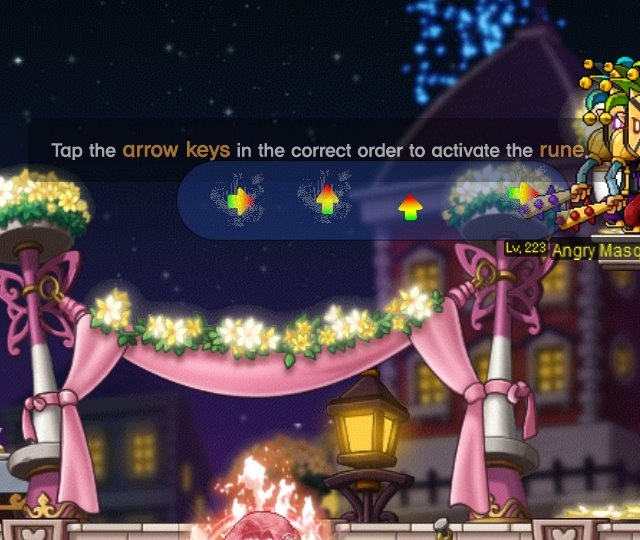rune_box: (167, 151, 586, 248)
